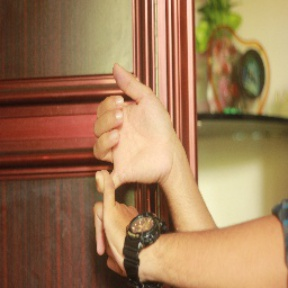S: (82, 62, 178, 288)
